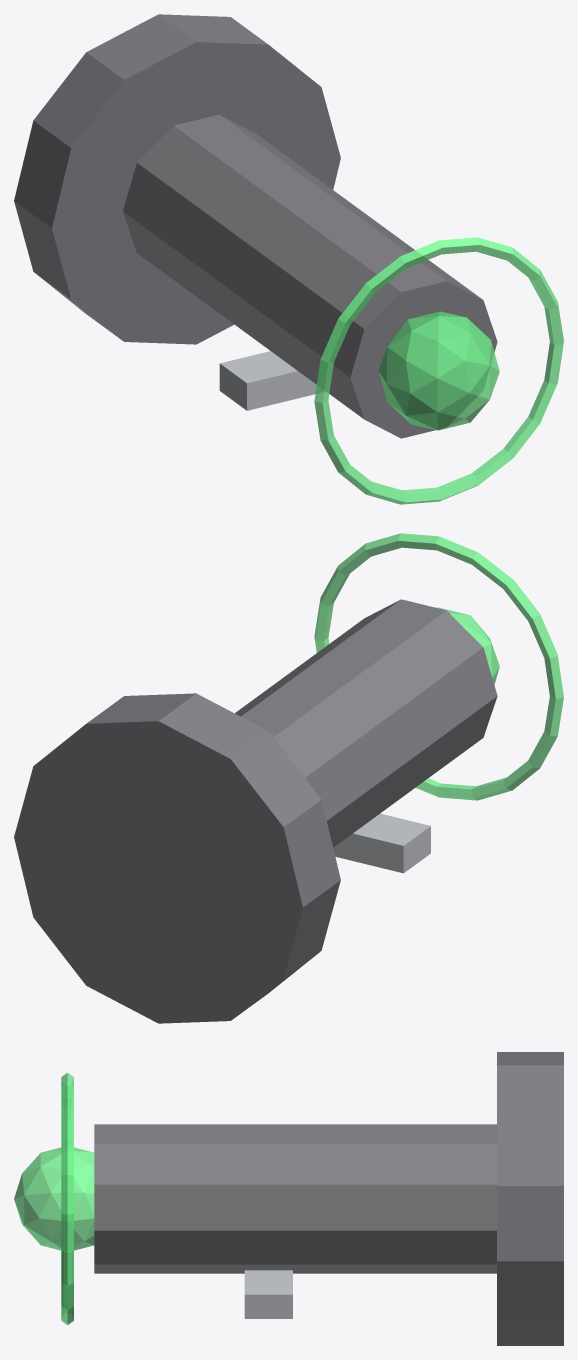
File: watch_post_tower.glb
The picture shows the model from 3 angles, top to bottom: view 1: azimuth 30°, elevation 25°; view 2: azimuth 150°, elevation 25°; view 3: azimuth 270°, elevation 25°; orthographic projection. The views are drawn at different scales.
Parts seen in each view (by area): view 1: tower_body, base, signal_ring, energy_core, armor_plate; view 2: base, tower_body, signal_ring, armor_plate, energy_core; view 3: tower_body, base, energy_core, signal_ring, armor_plate.
Part boxes in pixels (left/top/right/bottom): tower_body: left=123, top=114, right=497, bottom=438; base: left=14, top=14, right=340, bottom=344; signal_ring: left=314, top=237, right=563, bottom=504; energy_core: left=379, top=311, right=499, bottom=430; armor_plate: left=219, top=351, right=324, bottom=410; base: left=14, top=693, right=340, bottom=1023; tower_body: left=235, top=599, right=497, bottom=847; signal_ring: left=314, top=533, right=563, bottom=800; armor_plate: left=333, top=813, right=430, bottom=873; energy_core: left=436, top=607, right=499, bottom=684; tower_body: left=94, top=1124, right=496, bottom=1273; base: left=497, top=1052, right=563, bottom=1345; energy_core: left=14, top=1147, right=94, bottom=1250; signal_ring: left=61, top=1072, right=73, bottom=1325; armor_plate: left=244, top=1270, right=292, bottom=1318.
Bounding box in the file's own units: 1.1 × 1.1 × 2.05.
